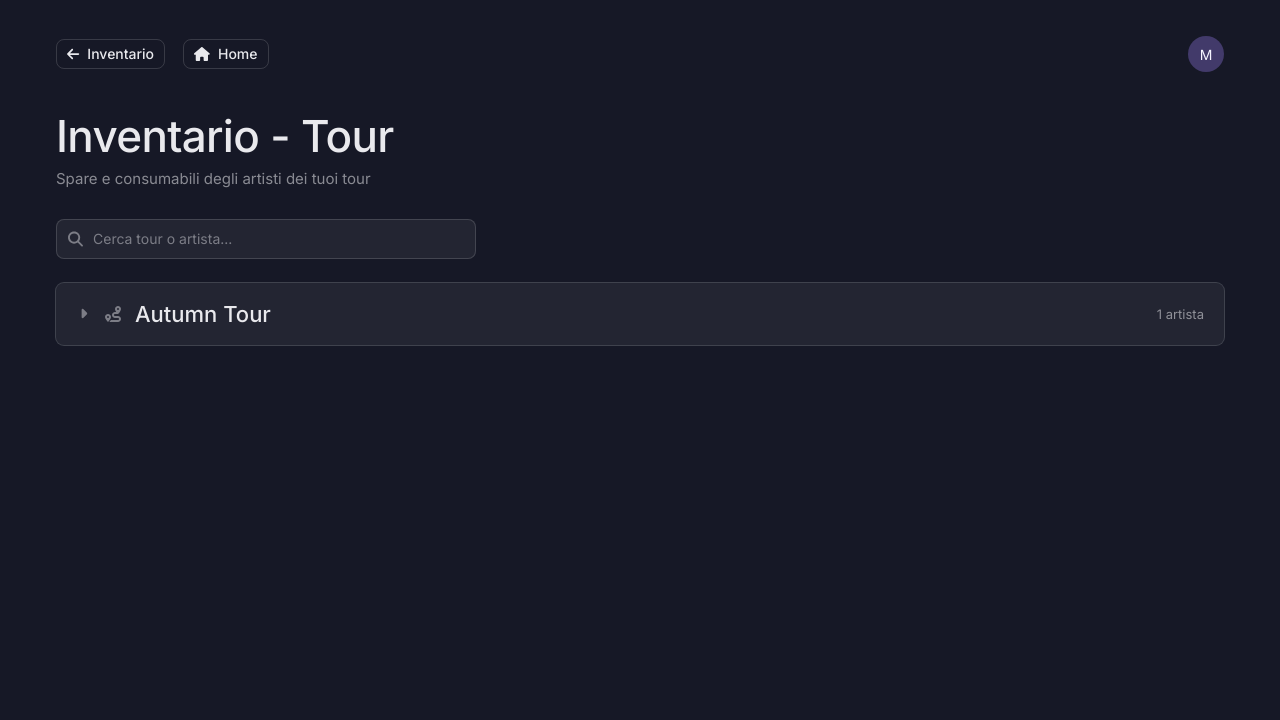
Test: MyInventoryTour › permette di modificare uno spare dell'artista
The width and height of the screenshot is (1280, 720).
Click the button "Autumn Tour". click: click(203, 314)
box: [76,300,1143,327]
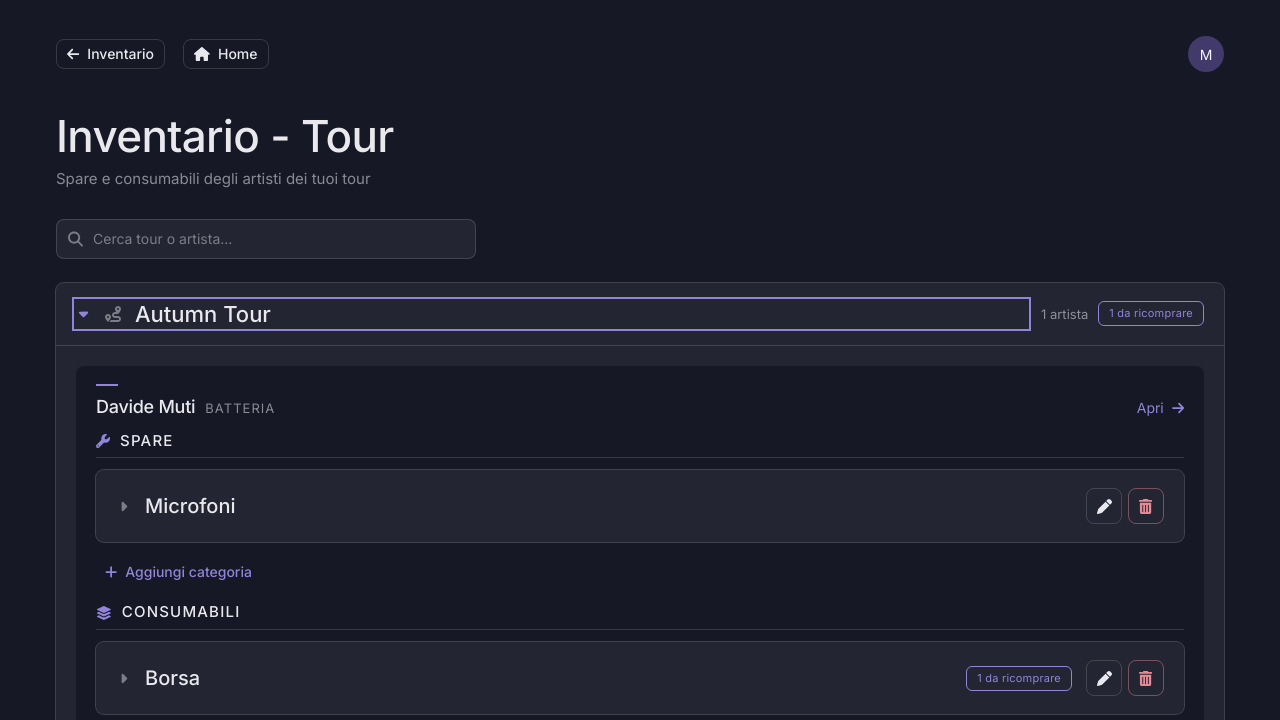
Click the button "Microfoni". click: click(190, 506)
box: [116,494,1072,518]
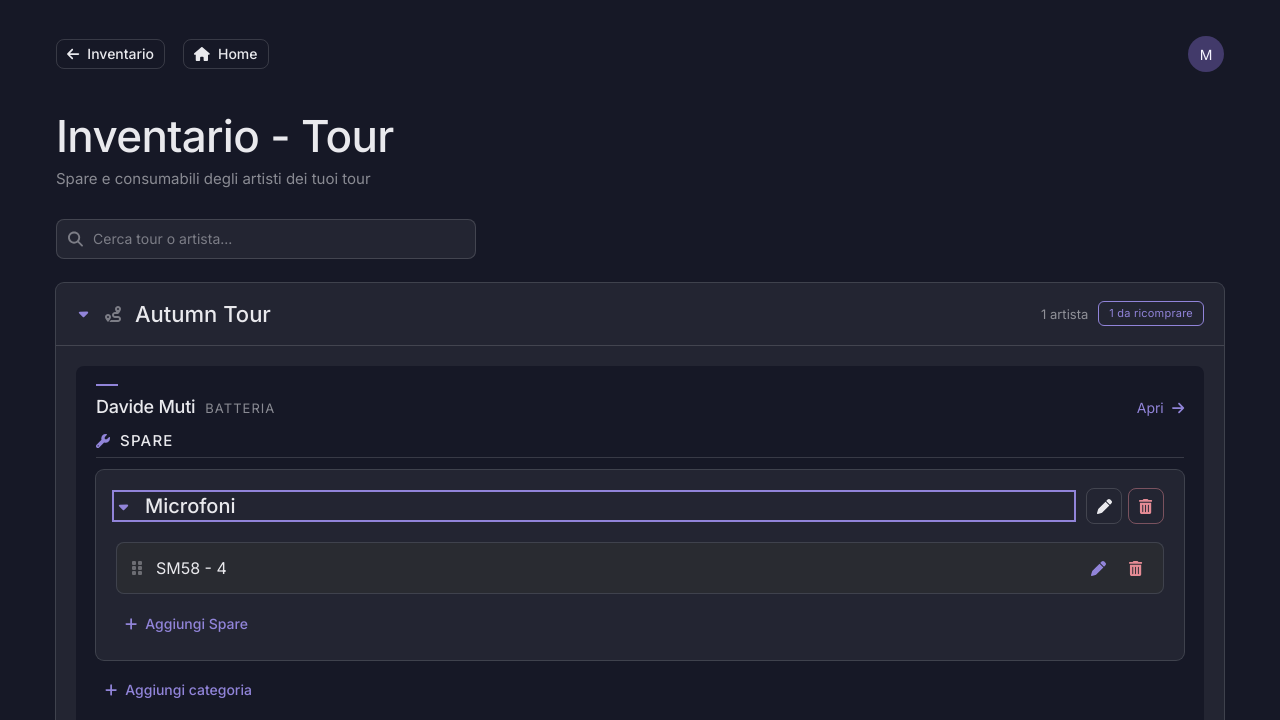
Click the button named "Modifica Spare". click: click(1098, 568)
box: [1080,550,1116,586]
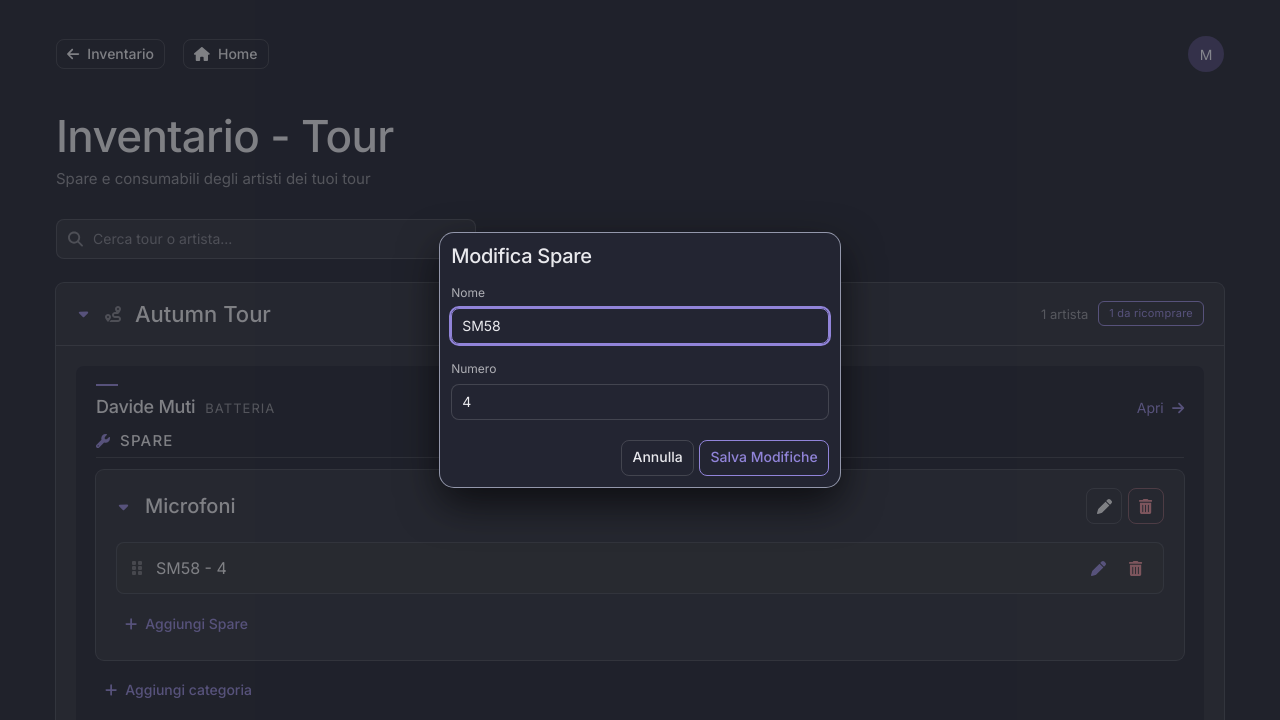
Replace the text in the number field labelled "Numero" with "6". click: (640, 402)
box: [451,384,829,420]
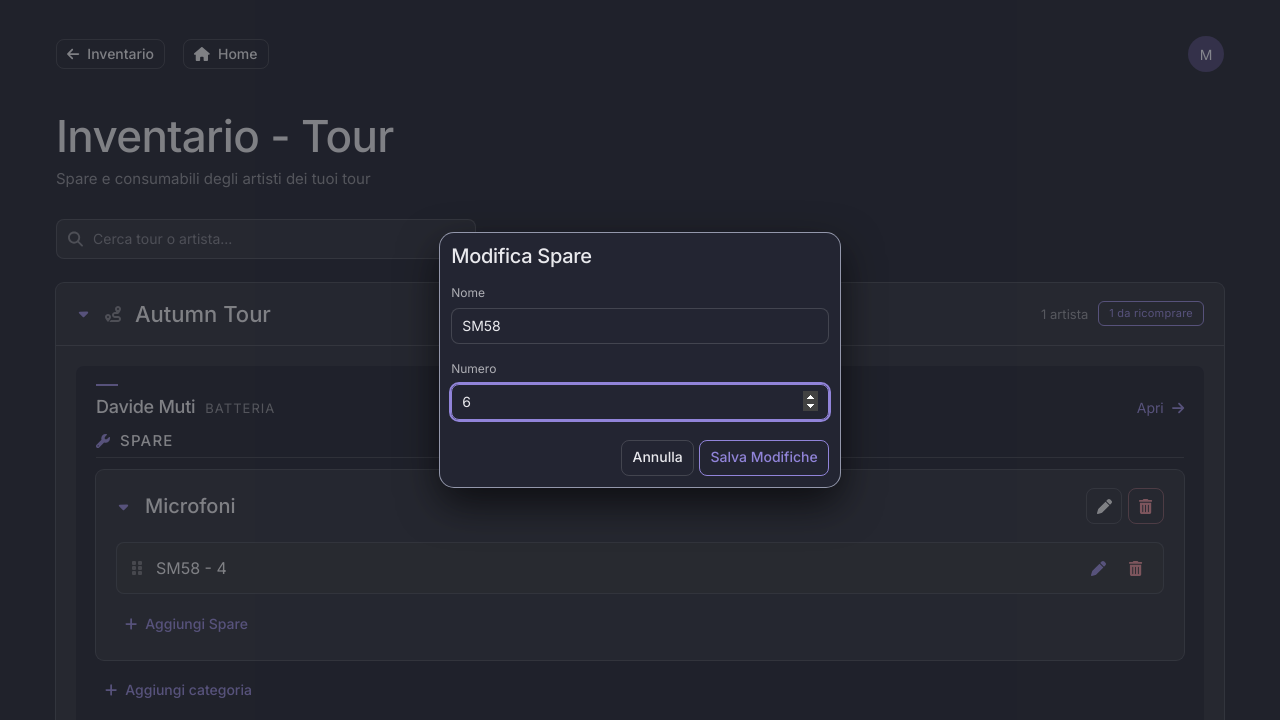
Click the button "Salva Modifiche". click: click(764, 458)
box: [699,440,829,476]
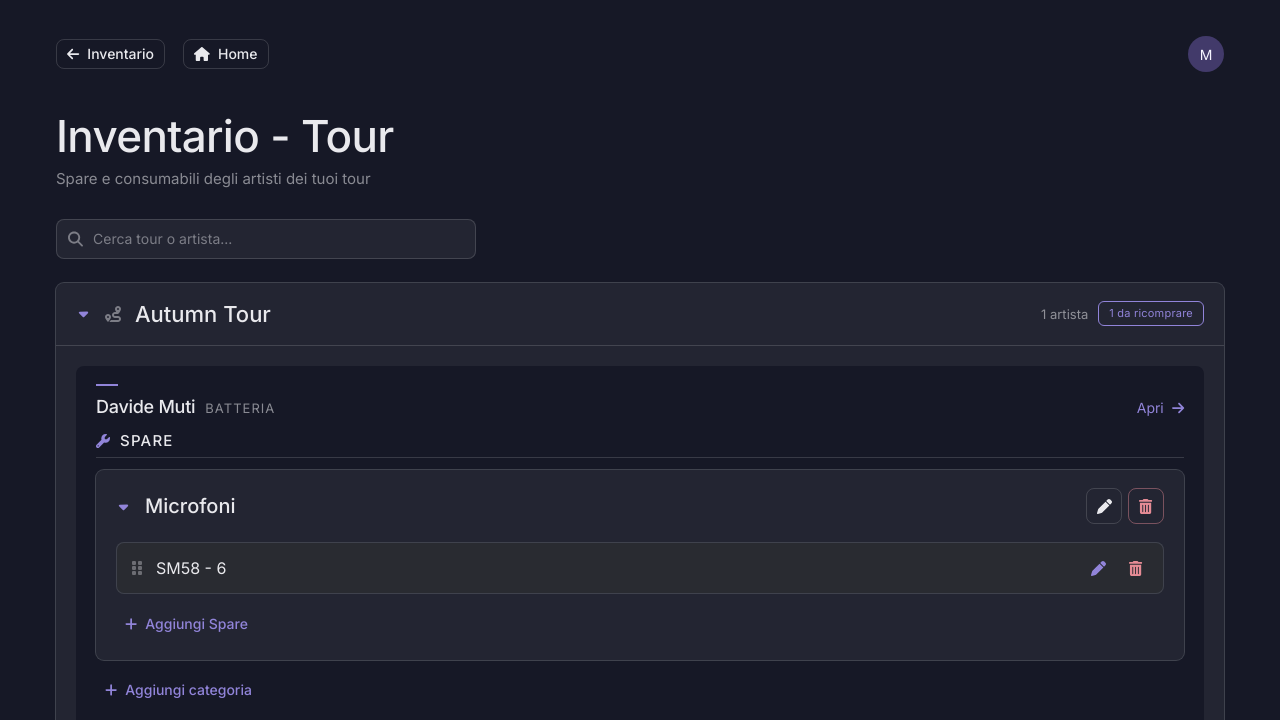
expect the text "SM58 - 6" is shown: met, box [156,558,226,578]
